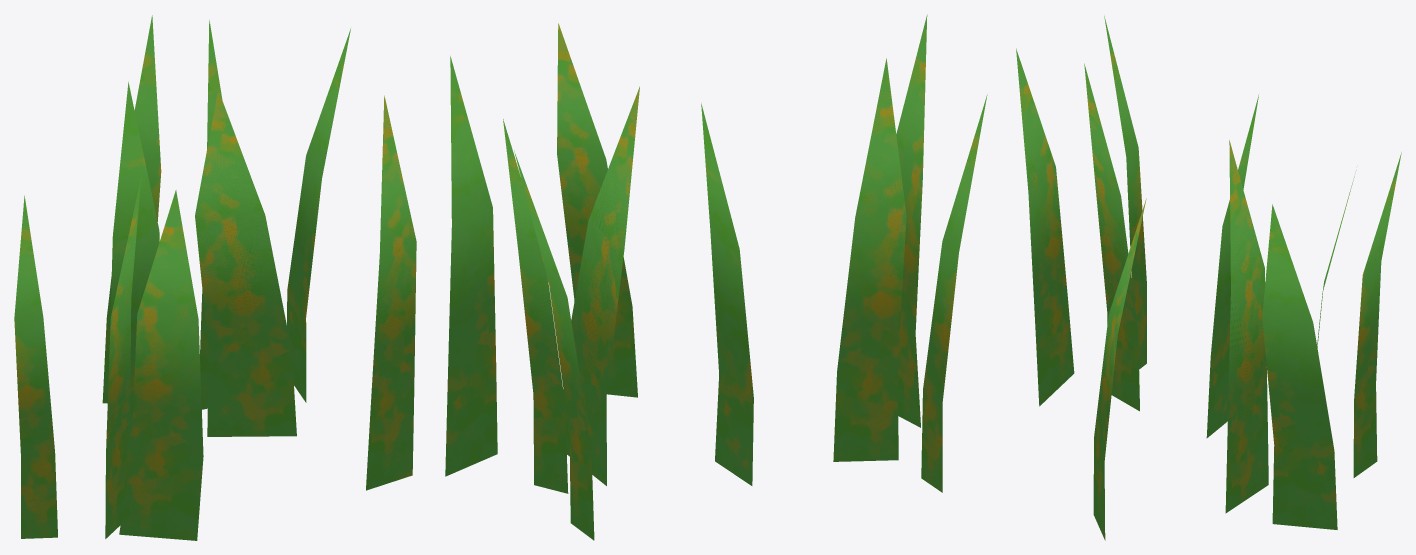
File: Sm_Grass4.fbx
The picture shows the model from 3 angles, left to right: view 1: azimuth 30°, elevation 25°; view 2: azimuth 150°, elevation 25°; view 3: azimuth 270°, elevation 25°; orthographic projection. The views are drawn at different scales.
Parts seen in each view (by area): view 1: Sm_Grass4; view 2: Sm_Grass4; view 3: Sm_Grass4.
Boxes of the visible parts, left/top/right/bottom form: Sm_Grass4: left=14, top=15, right=416, bottom=540; Sm_Grass4: left=445, top=14, right=987, bottom=540; Sm_Grass4: left=1016, top=16, right=1401, bottom=540.
Bounding box in the file's own units: 53.08 × 47.48 × 45.65.
